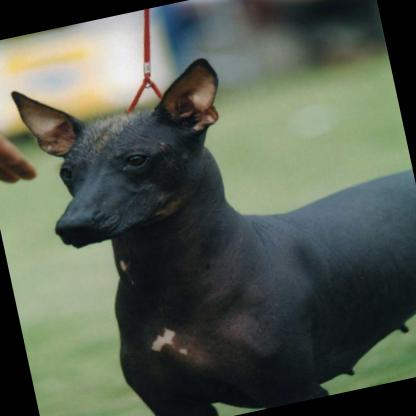Mexican_hairless: (10, 15, 416, 416)
